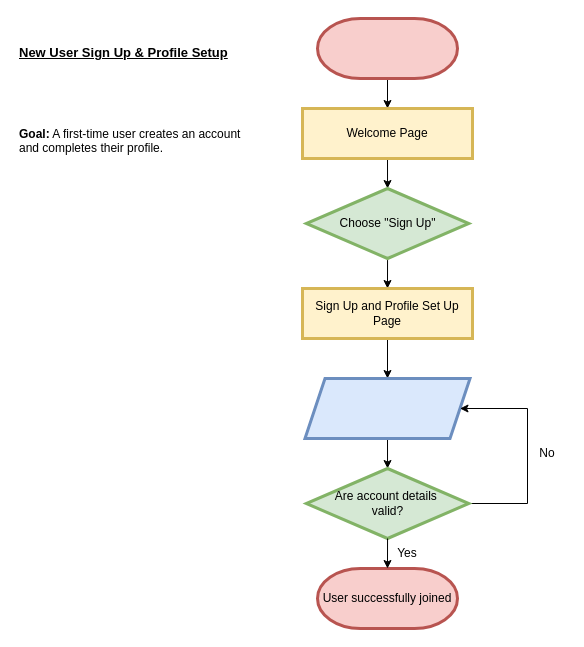
The diagram is 584 pixels wide and 647 high, and some of its shapes have lost their labels. The box of each missing label's shape, as (x1, y1, x2, y2) in pixels:
Enter account details and submit: (303, 376, 471, 440)
User visits Landing Page: (316, 16, 458, 80)
